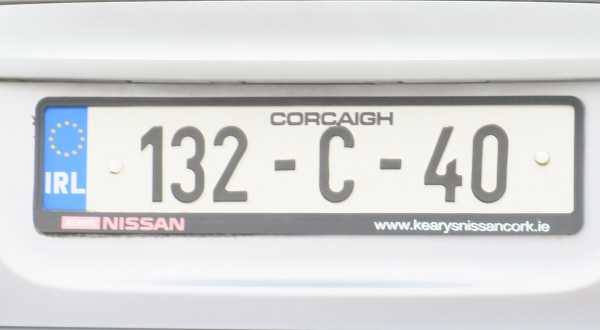license_plate: (34, 96, 584, 233)
